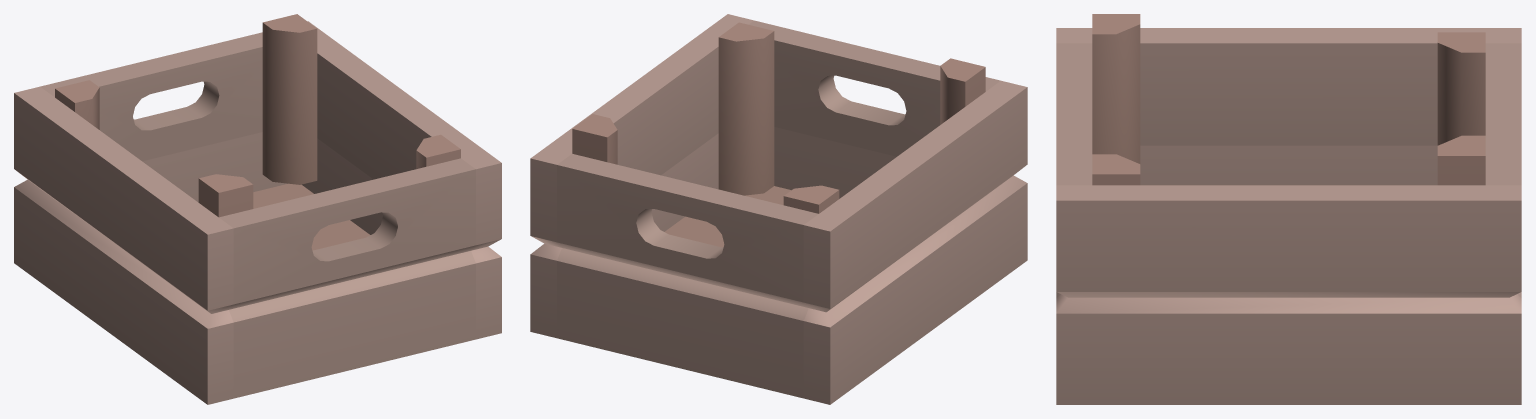
File: crate-wooden-tidy.glb
3 renders of one model, left to right at view 1: azimuth 30°, elevation 25°; view 2: azimuth 150°, elevation 25°; view 3: azimuth 270°, elevation 25°, orthographic. The views are drawn at different scales.
Parts seen in each view (by area): view 1: crate-wooden-tidy; view 2: crate-wooden-tidy; view 3: crate-wooden-tidy.
Boxes of the visible parts, bbox=[...] form: crate-wooden-tidy: bbox=[14, 14, 501, 404]; crate-wooden-tidy: bbox=[530, 14, 1027, 404]; crate-wooden-tidy: bbox=[1056, 14, 1521, 404].
Size of the model in its own units: 0.34 by 0.215 by 0.3878.
